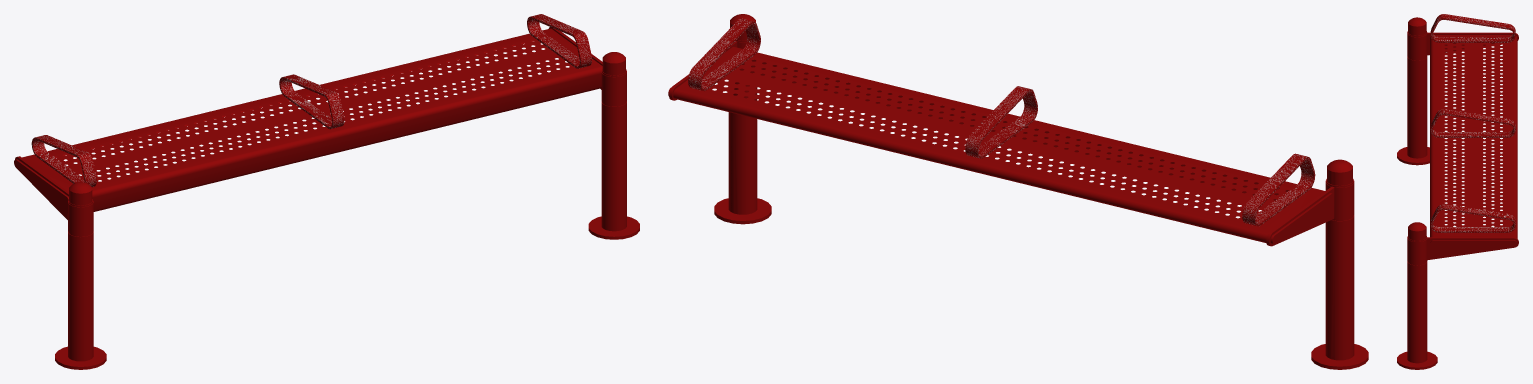
The picture shows the model from 3 angles, left to right: view 1: azimuth 30°, elevation 25°; view 2: azimuth 150°, elevation 25°; view 3: azimuth 270°, elevation 25°; orthographic projection. The views are drawn at different scales.
Parts seen in each view (by area): view 1: mesh2_mesh2-geometry, mesh1_mesh1-geometry, mesh38_mesh38-geometry, mesh5_mesh5-geometry, mesh4_mesh4-geometry, mesh3_mesh3-geometry, mesh37_mesh37-geometry, mesh19_mesh19-geometry; view 2: mesh2_mesh2-geometry, mesh1_mesh1-geometry, mesh5_mesh5-geometry, mesh4_mesh4-geometry, mesh38_mesh38-geometry, mesh3_mesh3-geometry, mesh37_mesh37-geometry, mesh19_mesh19-geometry; view 3: mesh2_mesh2-geometry, mesh1_mesh1-geometry, mesh38_mesh38-geometry, mesh5_mesh5-geometry, mesh4_mesh4-geometry, mesh3_mesh3-geometry, mesh28_mesh28-geometry, mesh37_mesh37-geometry, mesh19_mesh19-geometry.
Part boxes in pixels (x1,y1,x2,y2): mesh2_mesh2-geometry: [22, 28, 602, 211]; mesh1_mesh1-geometry: [39, 38, 574, 184]; mesh38_mesh38-geometry: [588, 52, 639, 239]; mesh5_mesh5-geometry: [55, 182, 106, 369]; mesh4_mesh4-geometry: [31, 74, 344, 187]; mesh3_mesh3-geometry: [306, 38, 579, 118]; mesh37_mesh37-geometry: [527, 14, 592, 68]; mesh19_mesh19-geometry: [14, 156, 68, 219]; mesh2_mesh2-geometry: [673, 46, 1324, 242]; mesh1_mesh1-geometry: [706, 57, 1305, 225]; mesh5_mesh5-geometry: [1311, 159, 1368, 369]; mesh4_mesh4-geometry: [965, 86, 1315, 226]; mesh38_mesh38-geometry: [714, 14, 771, 224]; mesh3_mesh3-geometry: [702, 58, 1007, 147]; mesh37_mesh37-geometry: [688, 18, 760, 91]; mesh19_mesh19-geometry: [1266, 187, 1334, 246]; mesh2_mesh2-geometry: [1430, 35, 1517, 238]; mesh1_mesh1-geometry: [1442, 43, 1505, 233]; mesh38_mesh38-geometry: [1397, 222, 1437, 369]; mesh5_mesh5-geometry: [1397, 17, 1429, 165]; mesh4_mesh4-geometry: [1430, 14, 1515, 137]; mesh3_mesh3-geometry: [1450, 138, 1497, 235]; mesh28_mesh28-geometry: [1427, 237, 1518, 260]; mesh37_mesh37-geometry: [1430, 204, 1515, 232]; mesh19_mesh19-geometry: [1427, 32, 1518, 55].
Bounding box in the file's own units: 0.9325 × 0.2893 × 0.2161.
